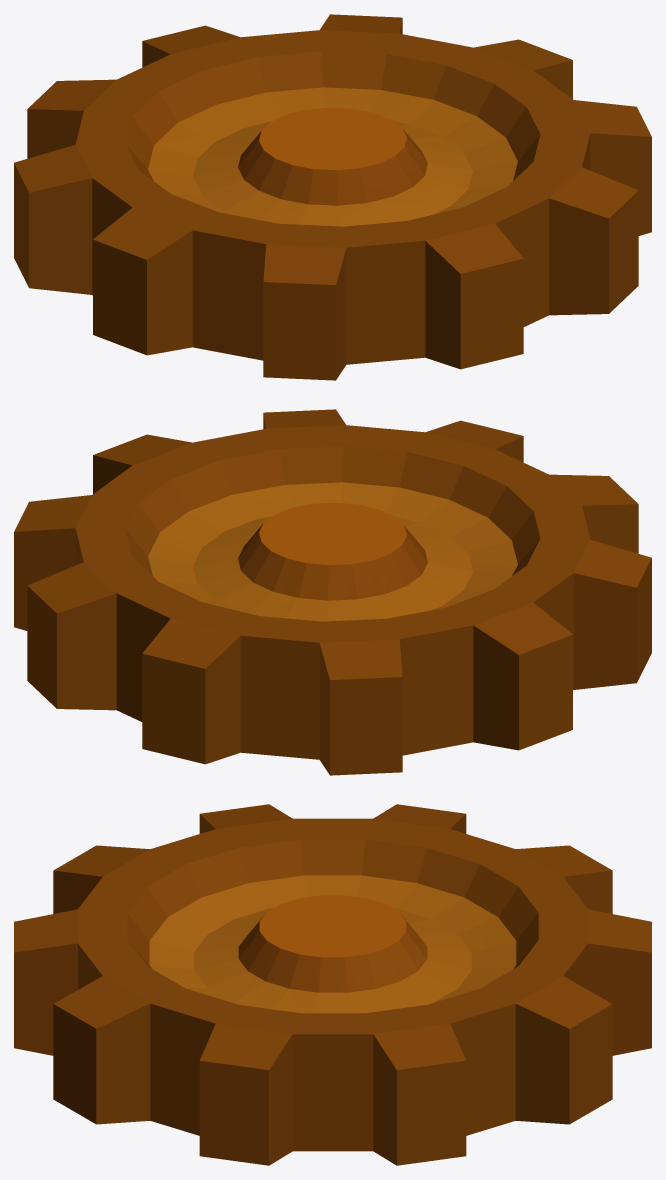
Rendered from Gear 10 Teeth.glb.
3 views of the same model, one above another, from view 1: azimuth 30°, elevation 25°; view 2: azimuth 150°, elevation 25°; view 3: azimuth 270°, elevation 25° (orthographic).
Visible parts, largest first — view 1: Gear10Teeth; view 2: Gear10Teeth; view 3: Gear10Teeth.
Boxes of the visible parts, x1,y1,x2,y2 form: Gear10Teeth: [14, 14, 651, 380]; Gear10Teeth: [14, 409, 651, 775]; Gear10Teeth: [14, 804, 651, 1165].
Size of what is drawn, in the model's own units: 2.44 by 0.5009 by 2.47.
Materials: 1 (1 with a texture image).
